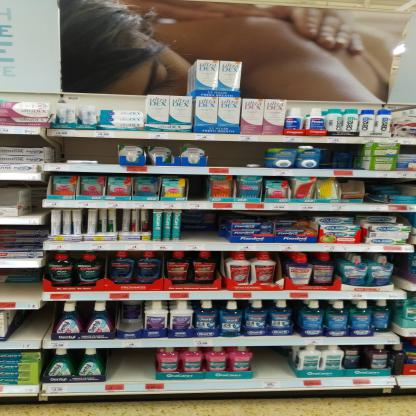Void: (59, 140, 120, 165), (105, 350, 154, 380), (208, 142, 267, 165), (2, 270, 44, 300), (252, 346, 295, 374), (10, 310, 50, 340), (184, 213, 222, 240), (326, 144, 364, 168), (24, 181, 44, 216), (119, 314, 144, 336), (393, 255, 406, 288), (1, 136, 36, 147)
